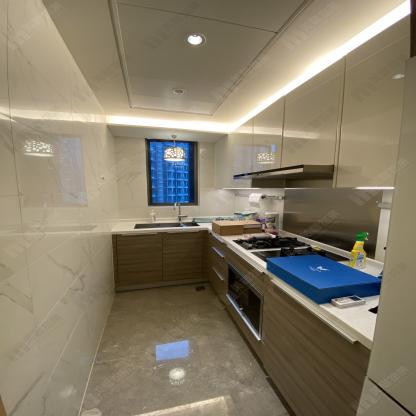Cupboard: (211, 15, 412, 188), (115, 231, 206, 288)
Exhaust Hood: (234, 164, 334, 181)
Oven: (226, 264, 263, 337)
Sink: (133, 221, 204, 228)
Stove: (234, 235, 352, 261)
